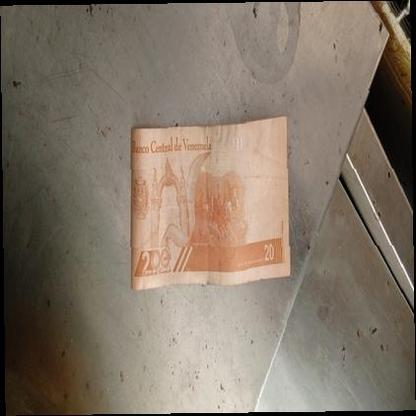twenty-back-vef: (129, 115, 290, 291)
